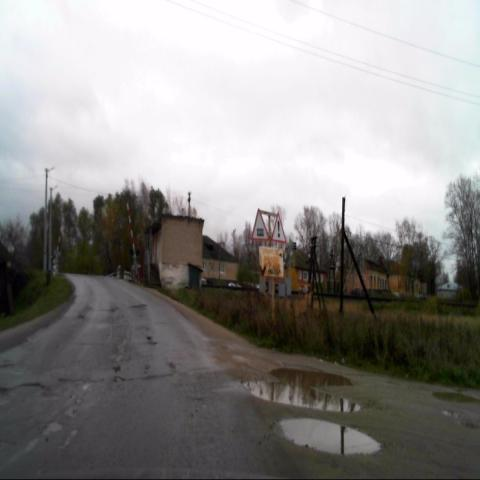1_1: (251, 208, 269, 241)
1_33: (270, 210, 286, 243)
